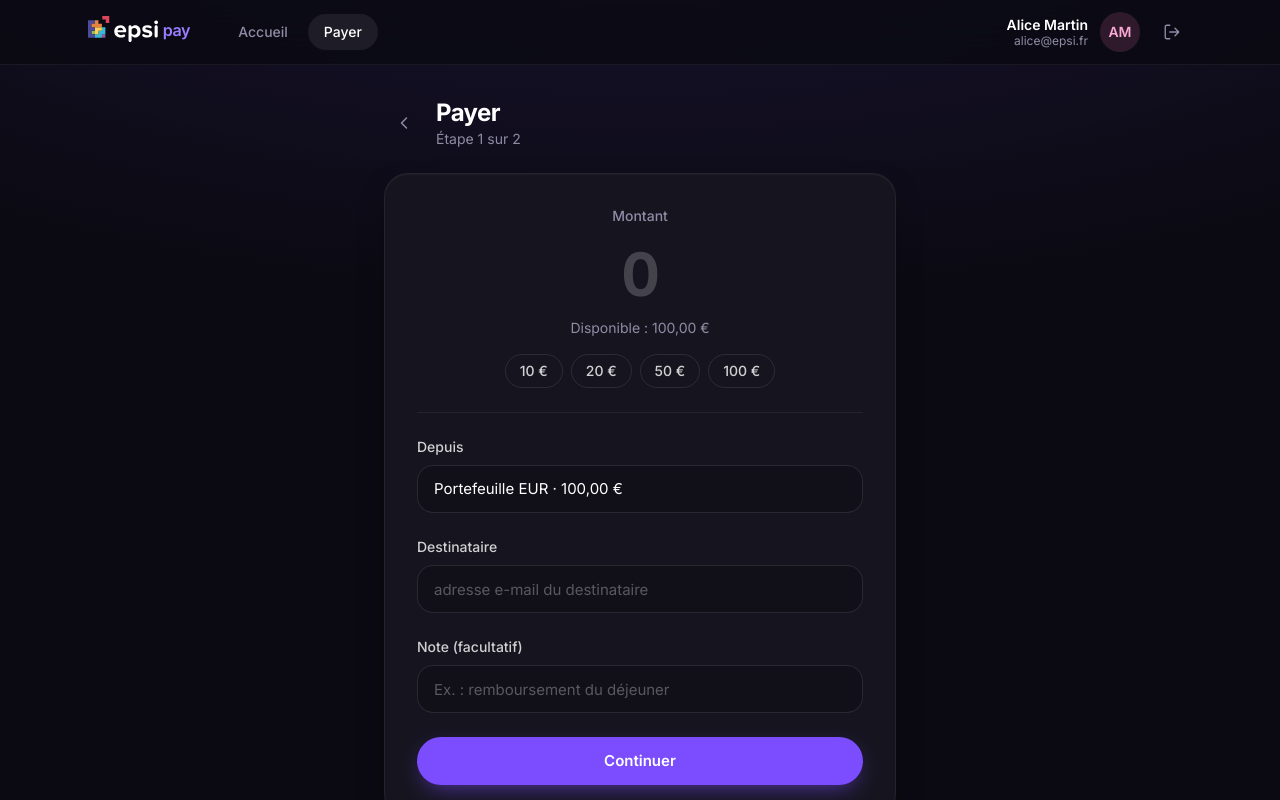
Test: Écrans › Paiement › doit réutiliser la même clé d’idempotence quand on relance un paiement non confirmé
Expected: the text "Disponible : 100,00 €" is shown, x1=570 y1=319 x2=710 y2=336
In the field labelled "Montant": (640, 274) x1=417 y1=238 x2=863 y2=310, type "12,5"
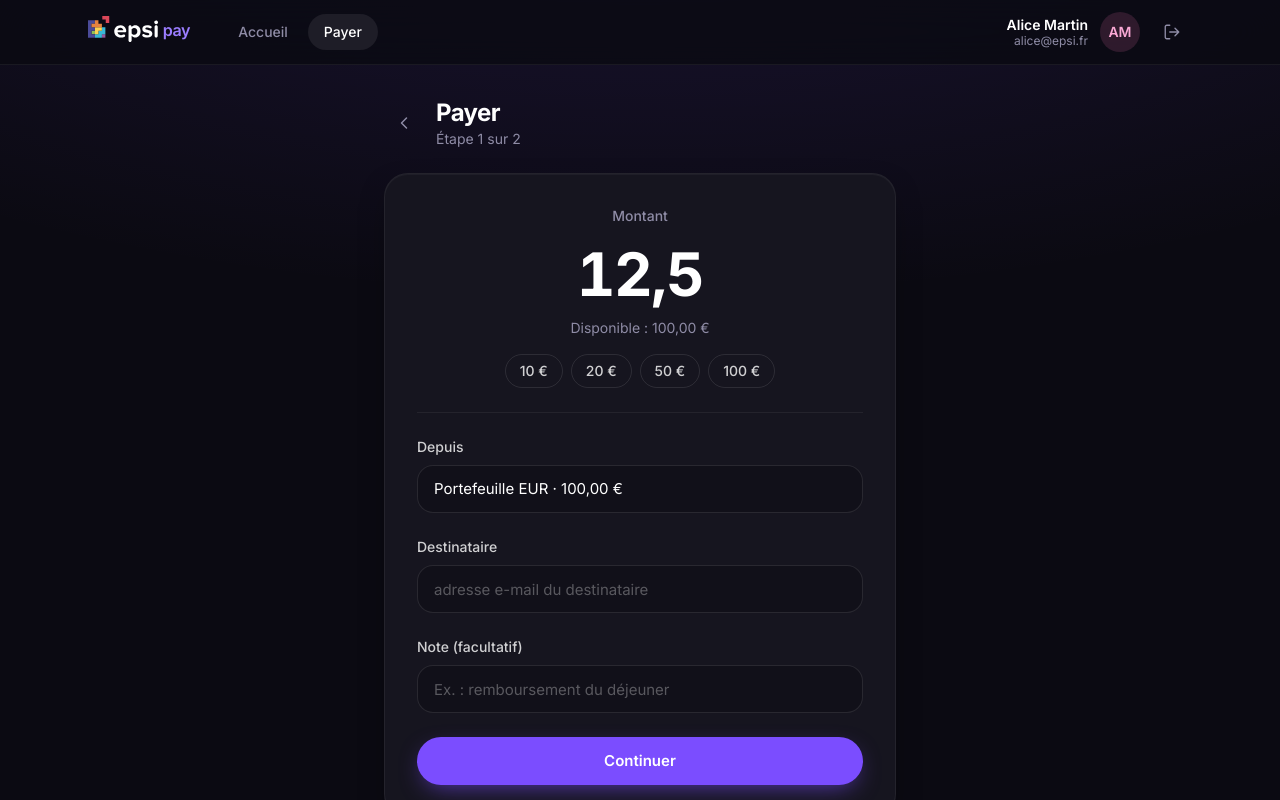
In the field labelled "Destinataire": (640, 589) x1=417 y1=565 x2=863 y2=613, type "bob@epsi.fr"
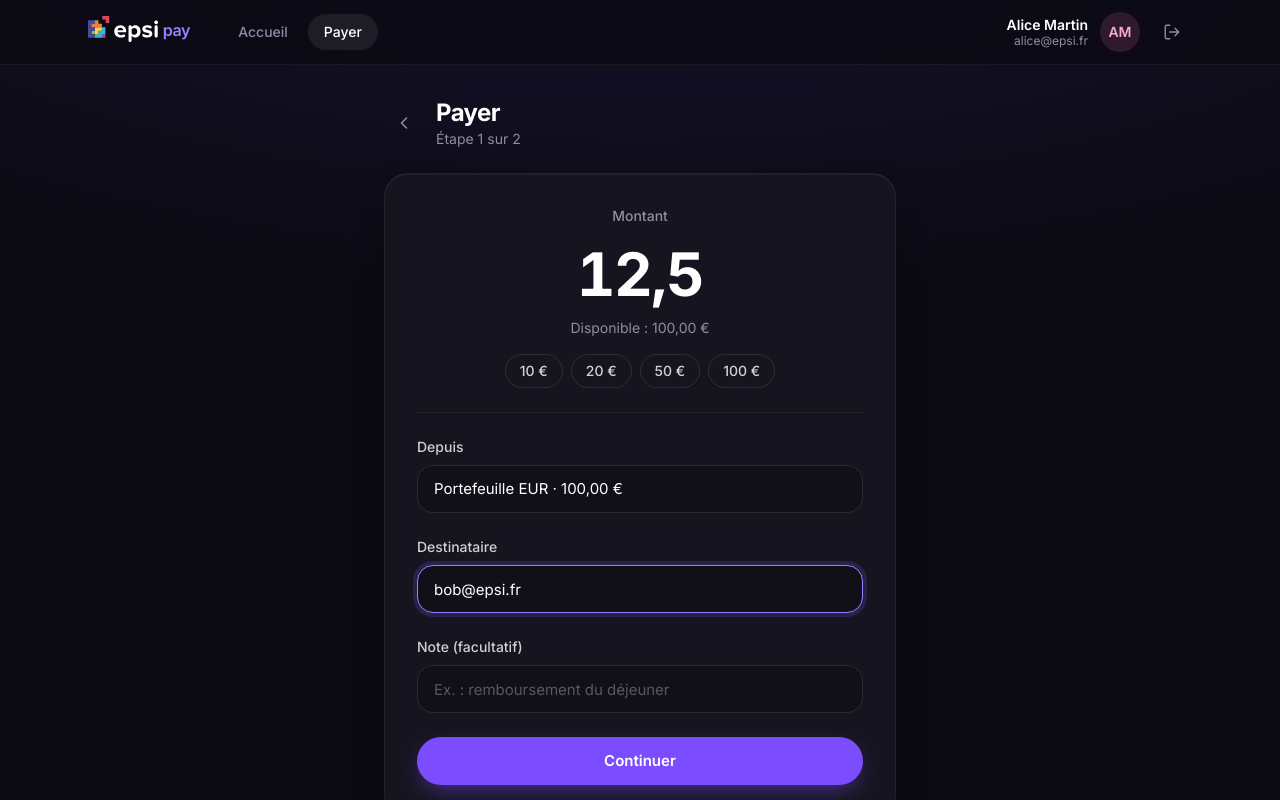
Click the button "Continuer": (640, 761) x1=417 y1=737 x2=863 y2=785
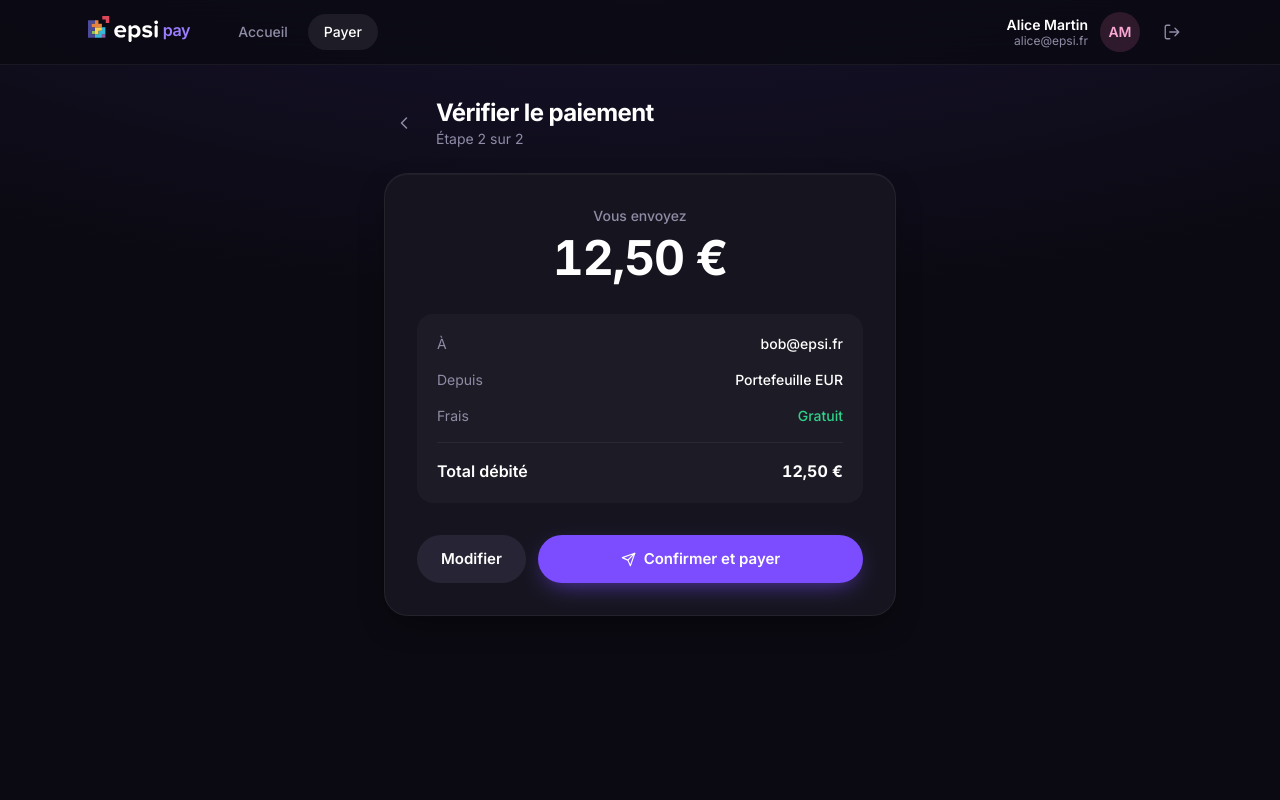
Click the button "Confirmer et payer": (700, 559) x1=538 y1=535 x2=863 y2=583
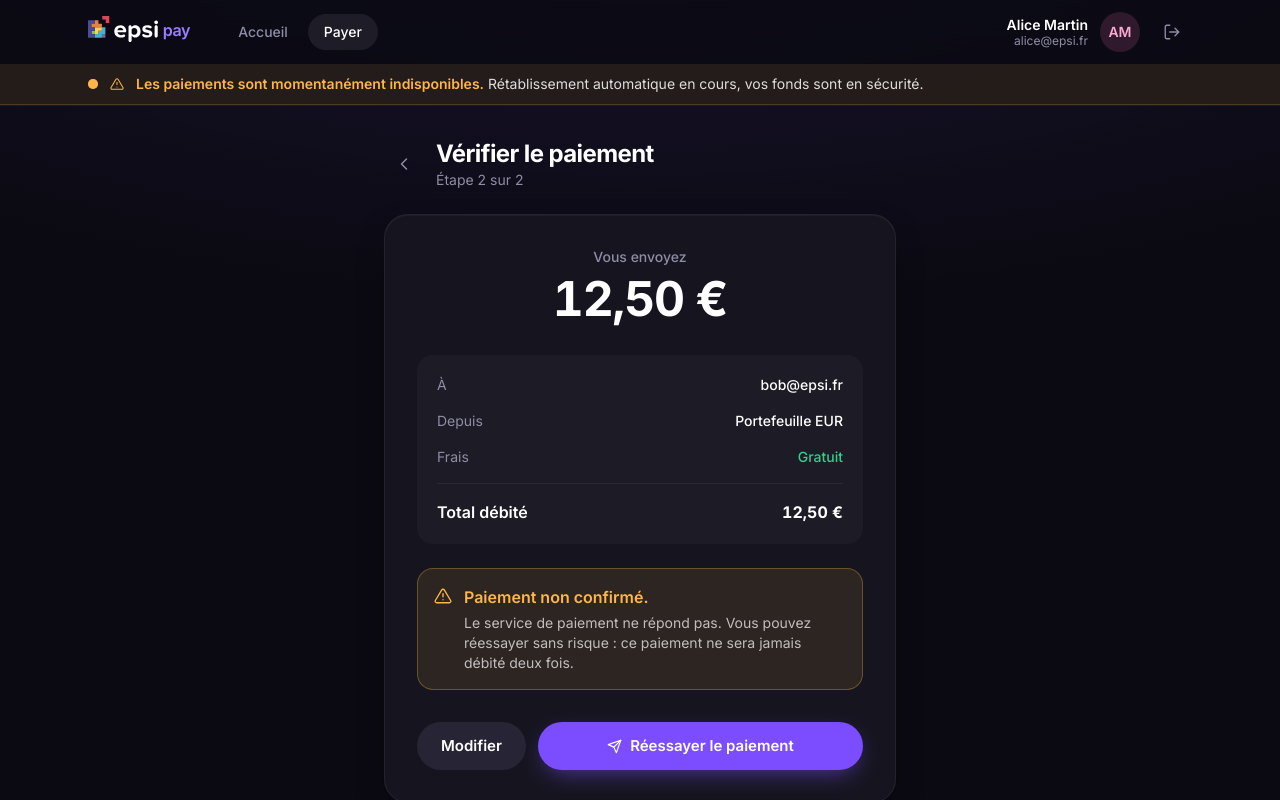
Expected: the text "Paiement non confirmé." is shown, x1=464 y1=587 x2=648 y2=607
Click the button "Réessayer le paiement": (700, 746) x1=538 y1=722 x2=863 y2=770
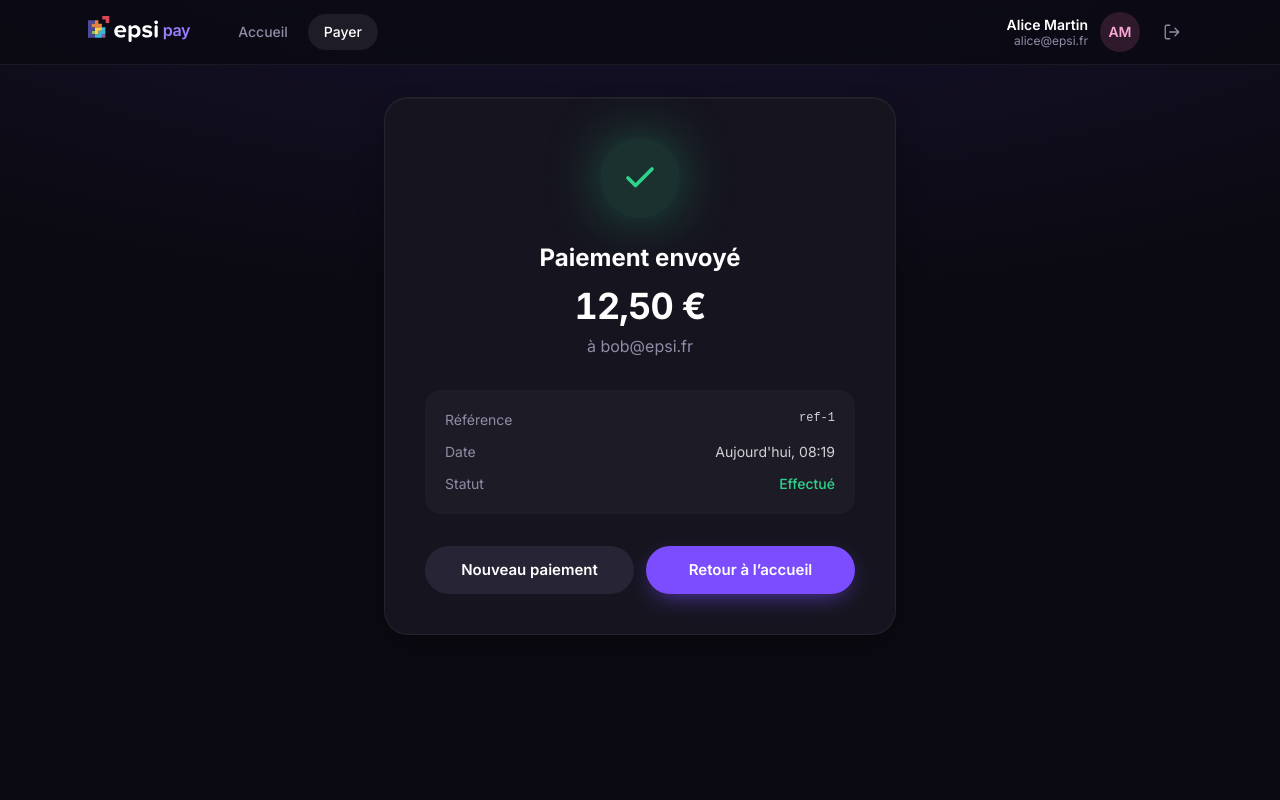
Expected: the heading "Paiement envoyé" is shown, x1=540 y1=243 x2=740 y2=272
